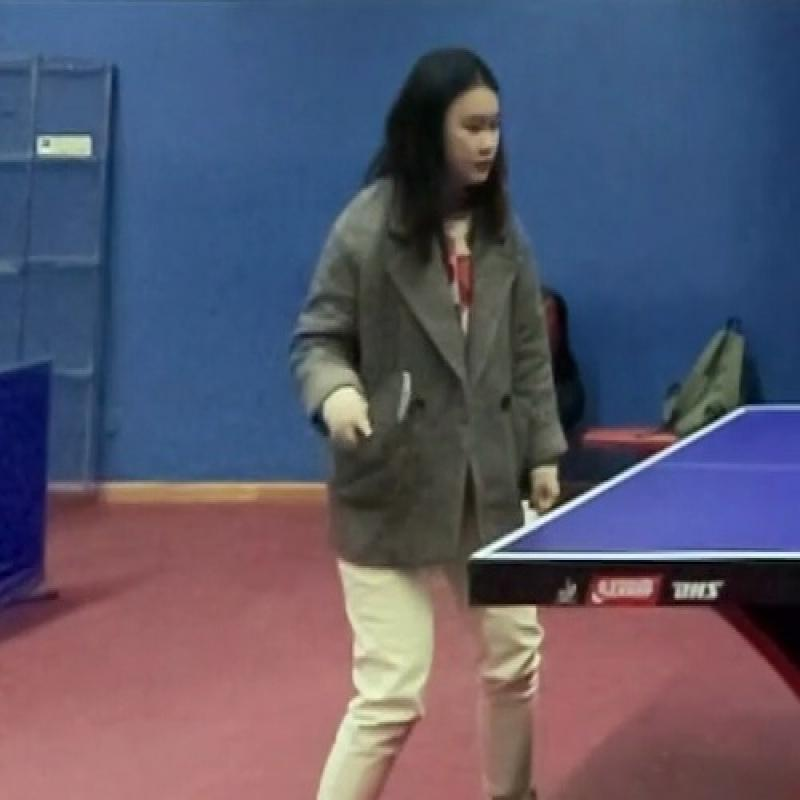bats: (344, 360, 426, 460)
